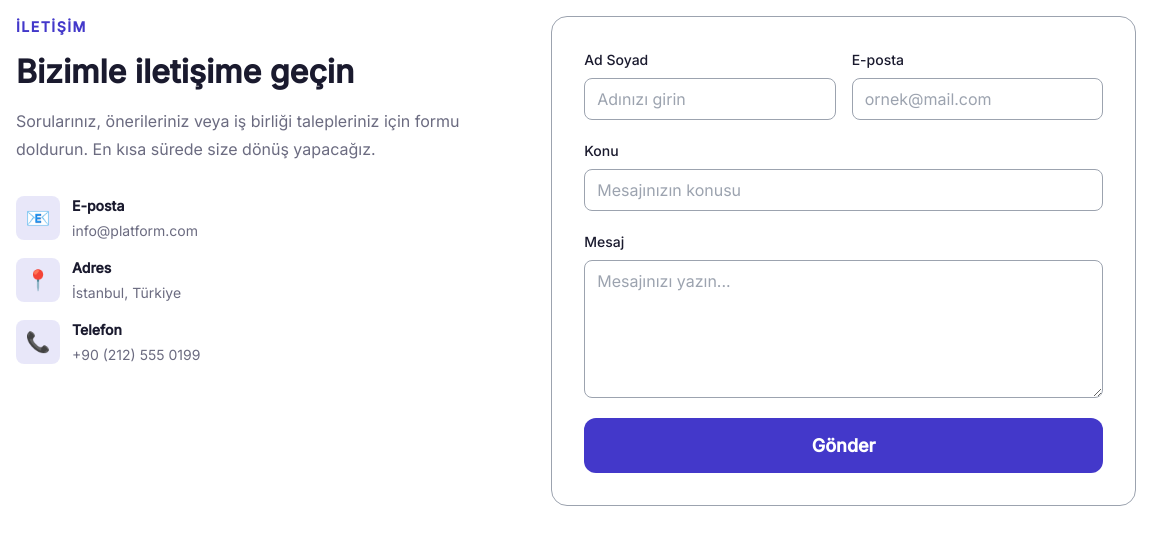
Contact Form › shows email format error for invalid email
Type "gecersiz-email" into the field labelled "E-posta" at coordinates (977, 99), box x1=852 y1=78 x2=1103 y2=120
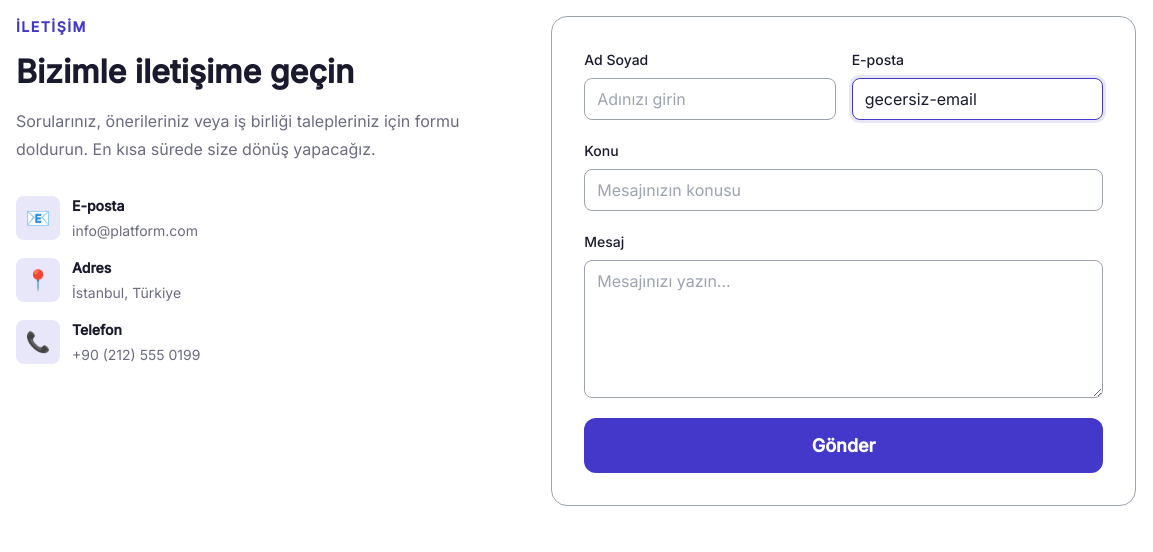
Press Tab
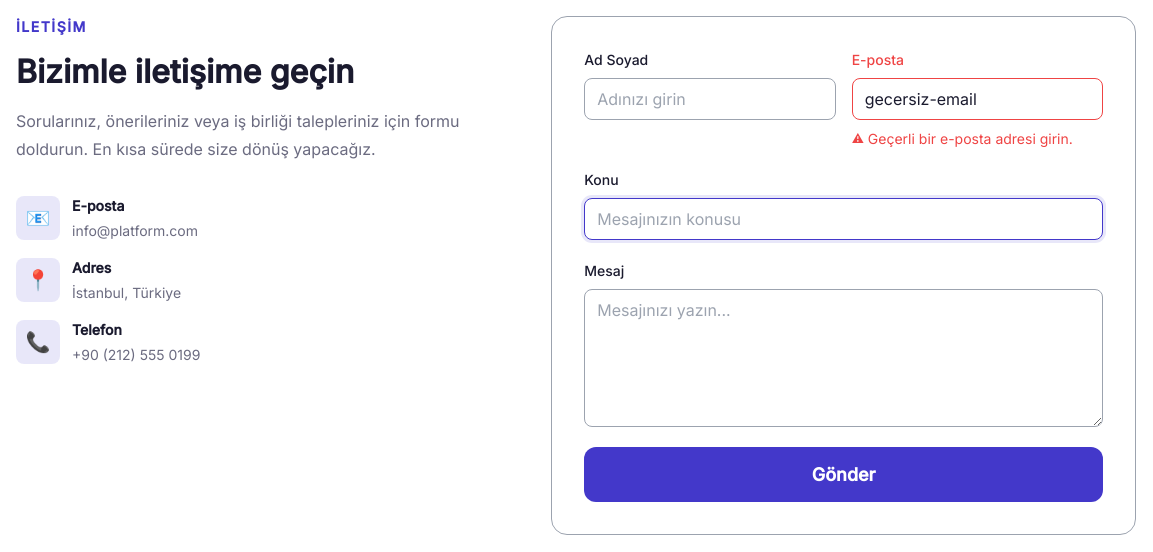
Expected: the text "Geçerli bir e-posta adresi girin." is shown, x1=868 y1=130 x2=1073 y2=147
